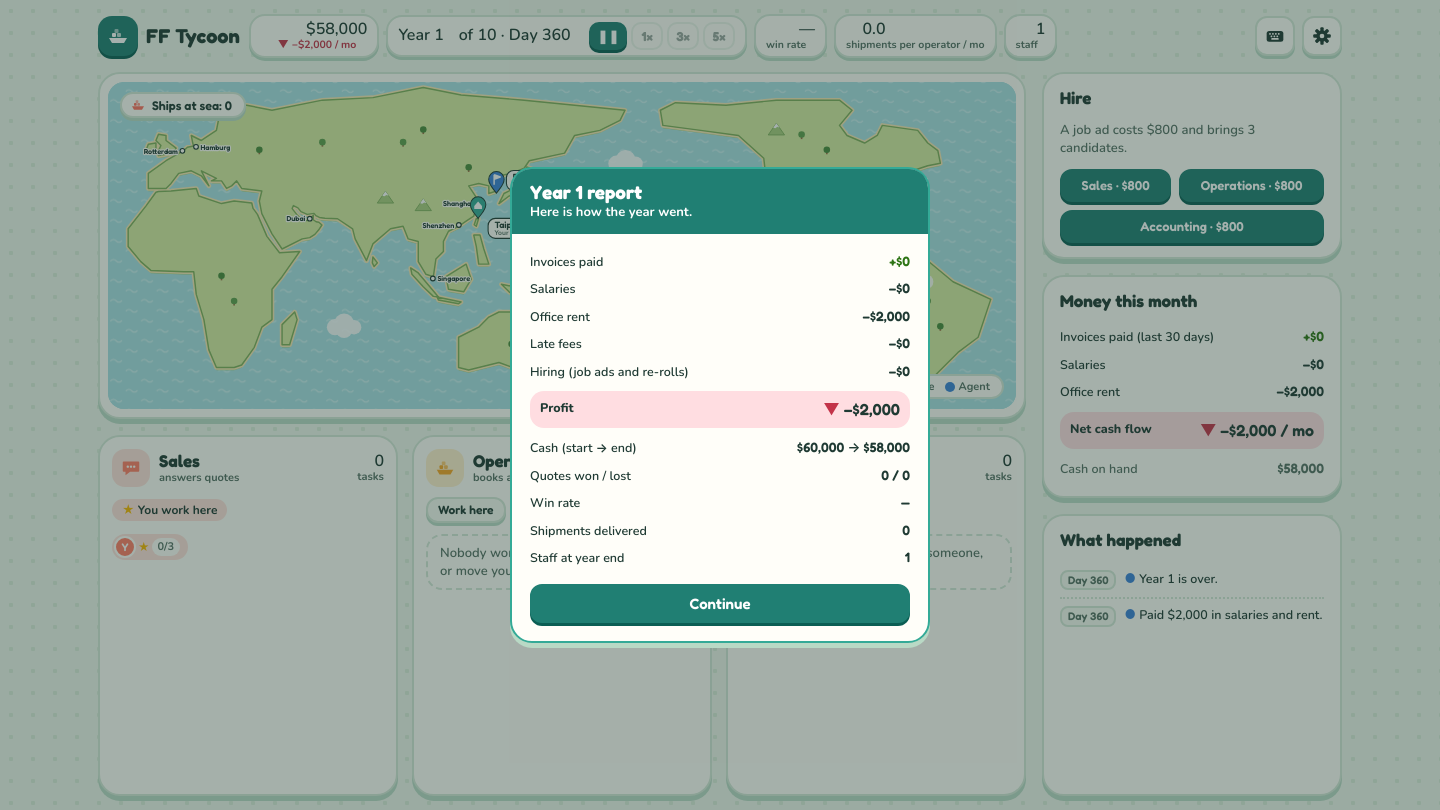
Test: GameScreen › a run reaching a year end opens the year report, and Continue restarts the clock
expect the dialog "Year 1 report" is shown: met, box [510,167,930,643]
Click the button "Continue" at x=720, y=604, box [530,584,910,623]
Wait 3000 ms
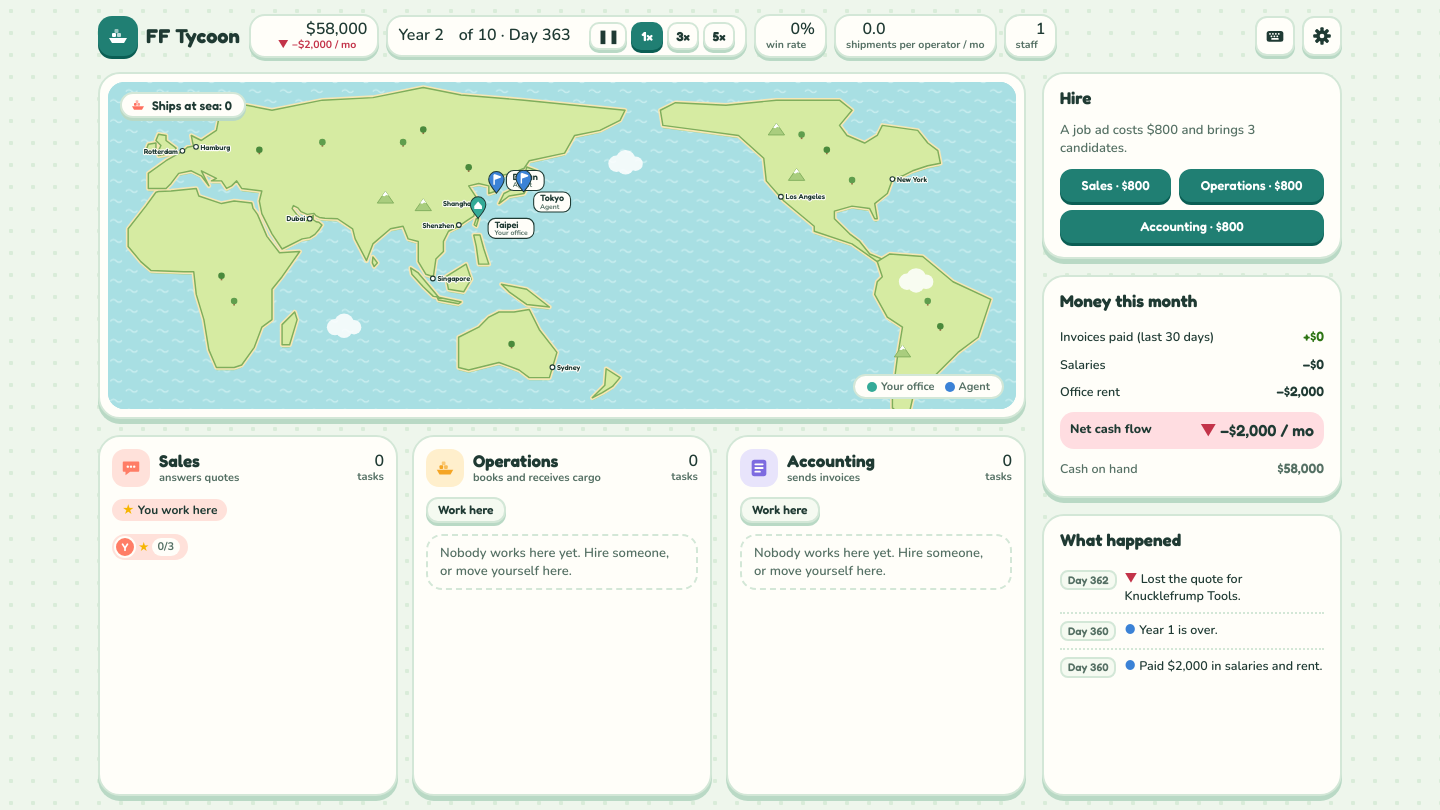
expect the dialog is gone: met
